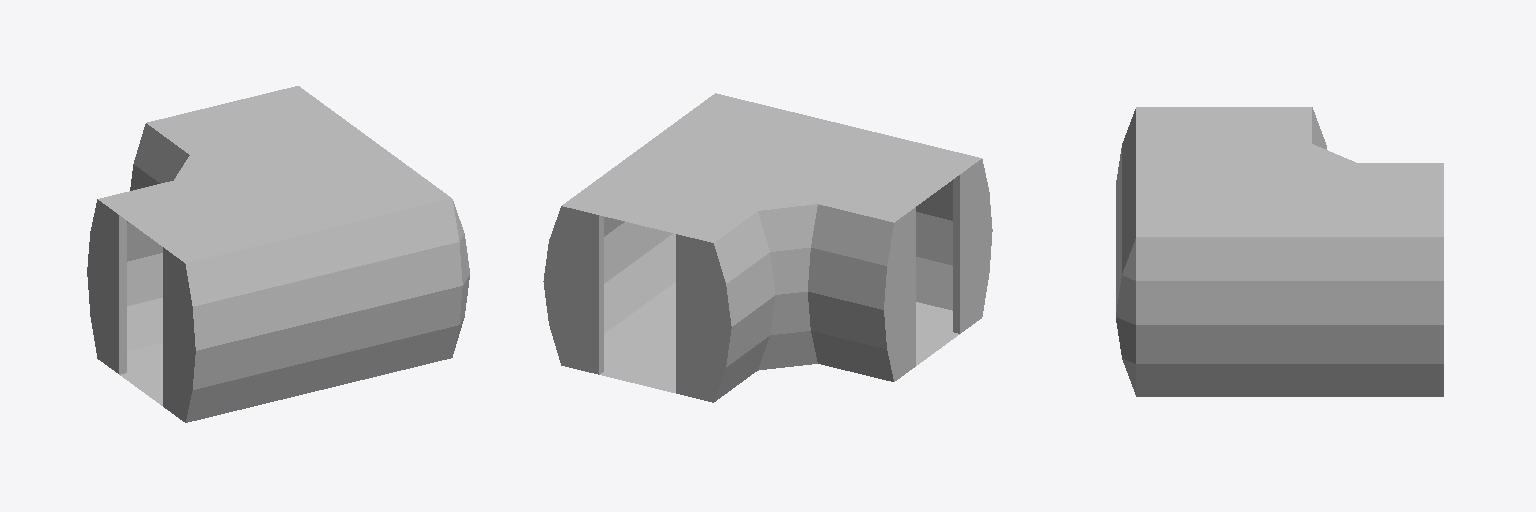
Rendered from L-Corridor.obj.
3 renders of one model, left to right at view 1: azimuth 30°, elevation 25°; view 2: azimuth 150°, elevation 25°; view 3: azimuth 270°, elevation 25°, orthographic.
Parts seen in each view (by area): view 1: Plane; view 2: Plane; view 3: Plane.
Boxes of the visible parts, <box> form: Plane: <box>87,86,469,422</box>; Plane: <box>543,93,992,402</box>; Plane: <box>1116,107,1443,396</box>.
Bounding box in the file's own units: 3.73 × 2 × 3.73.